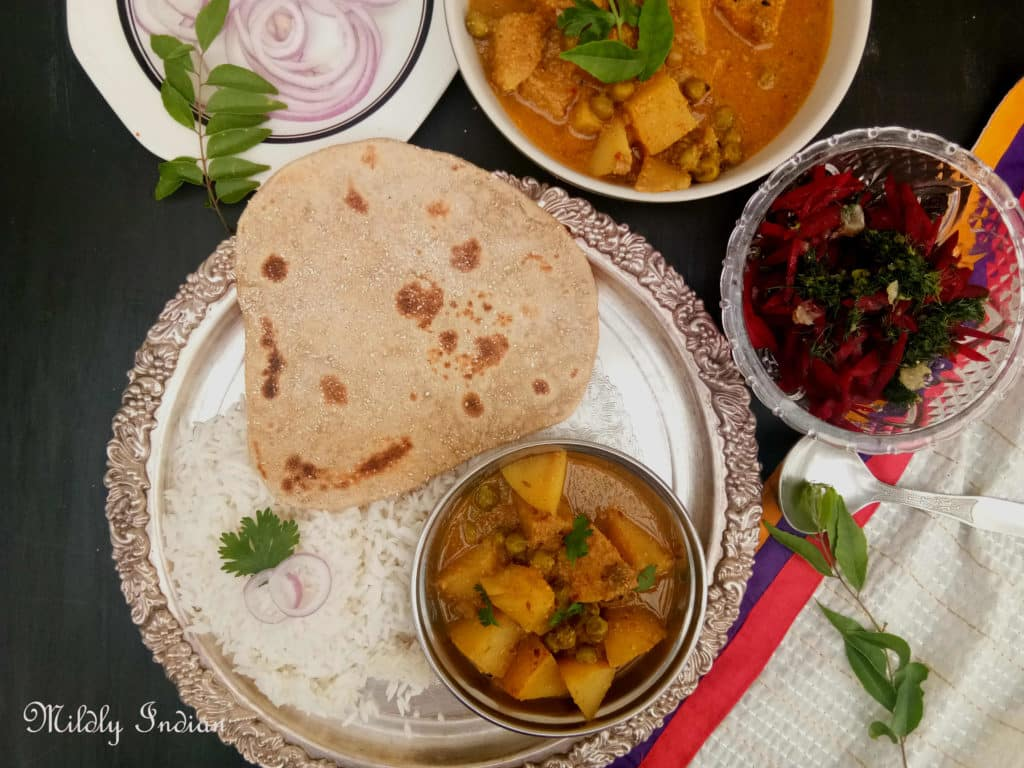curry: (430, 454, 710, 725), (462, 2, 865, 186), (756, 163, 998, 422)
roti: (227, 139, 607, 514)
